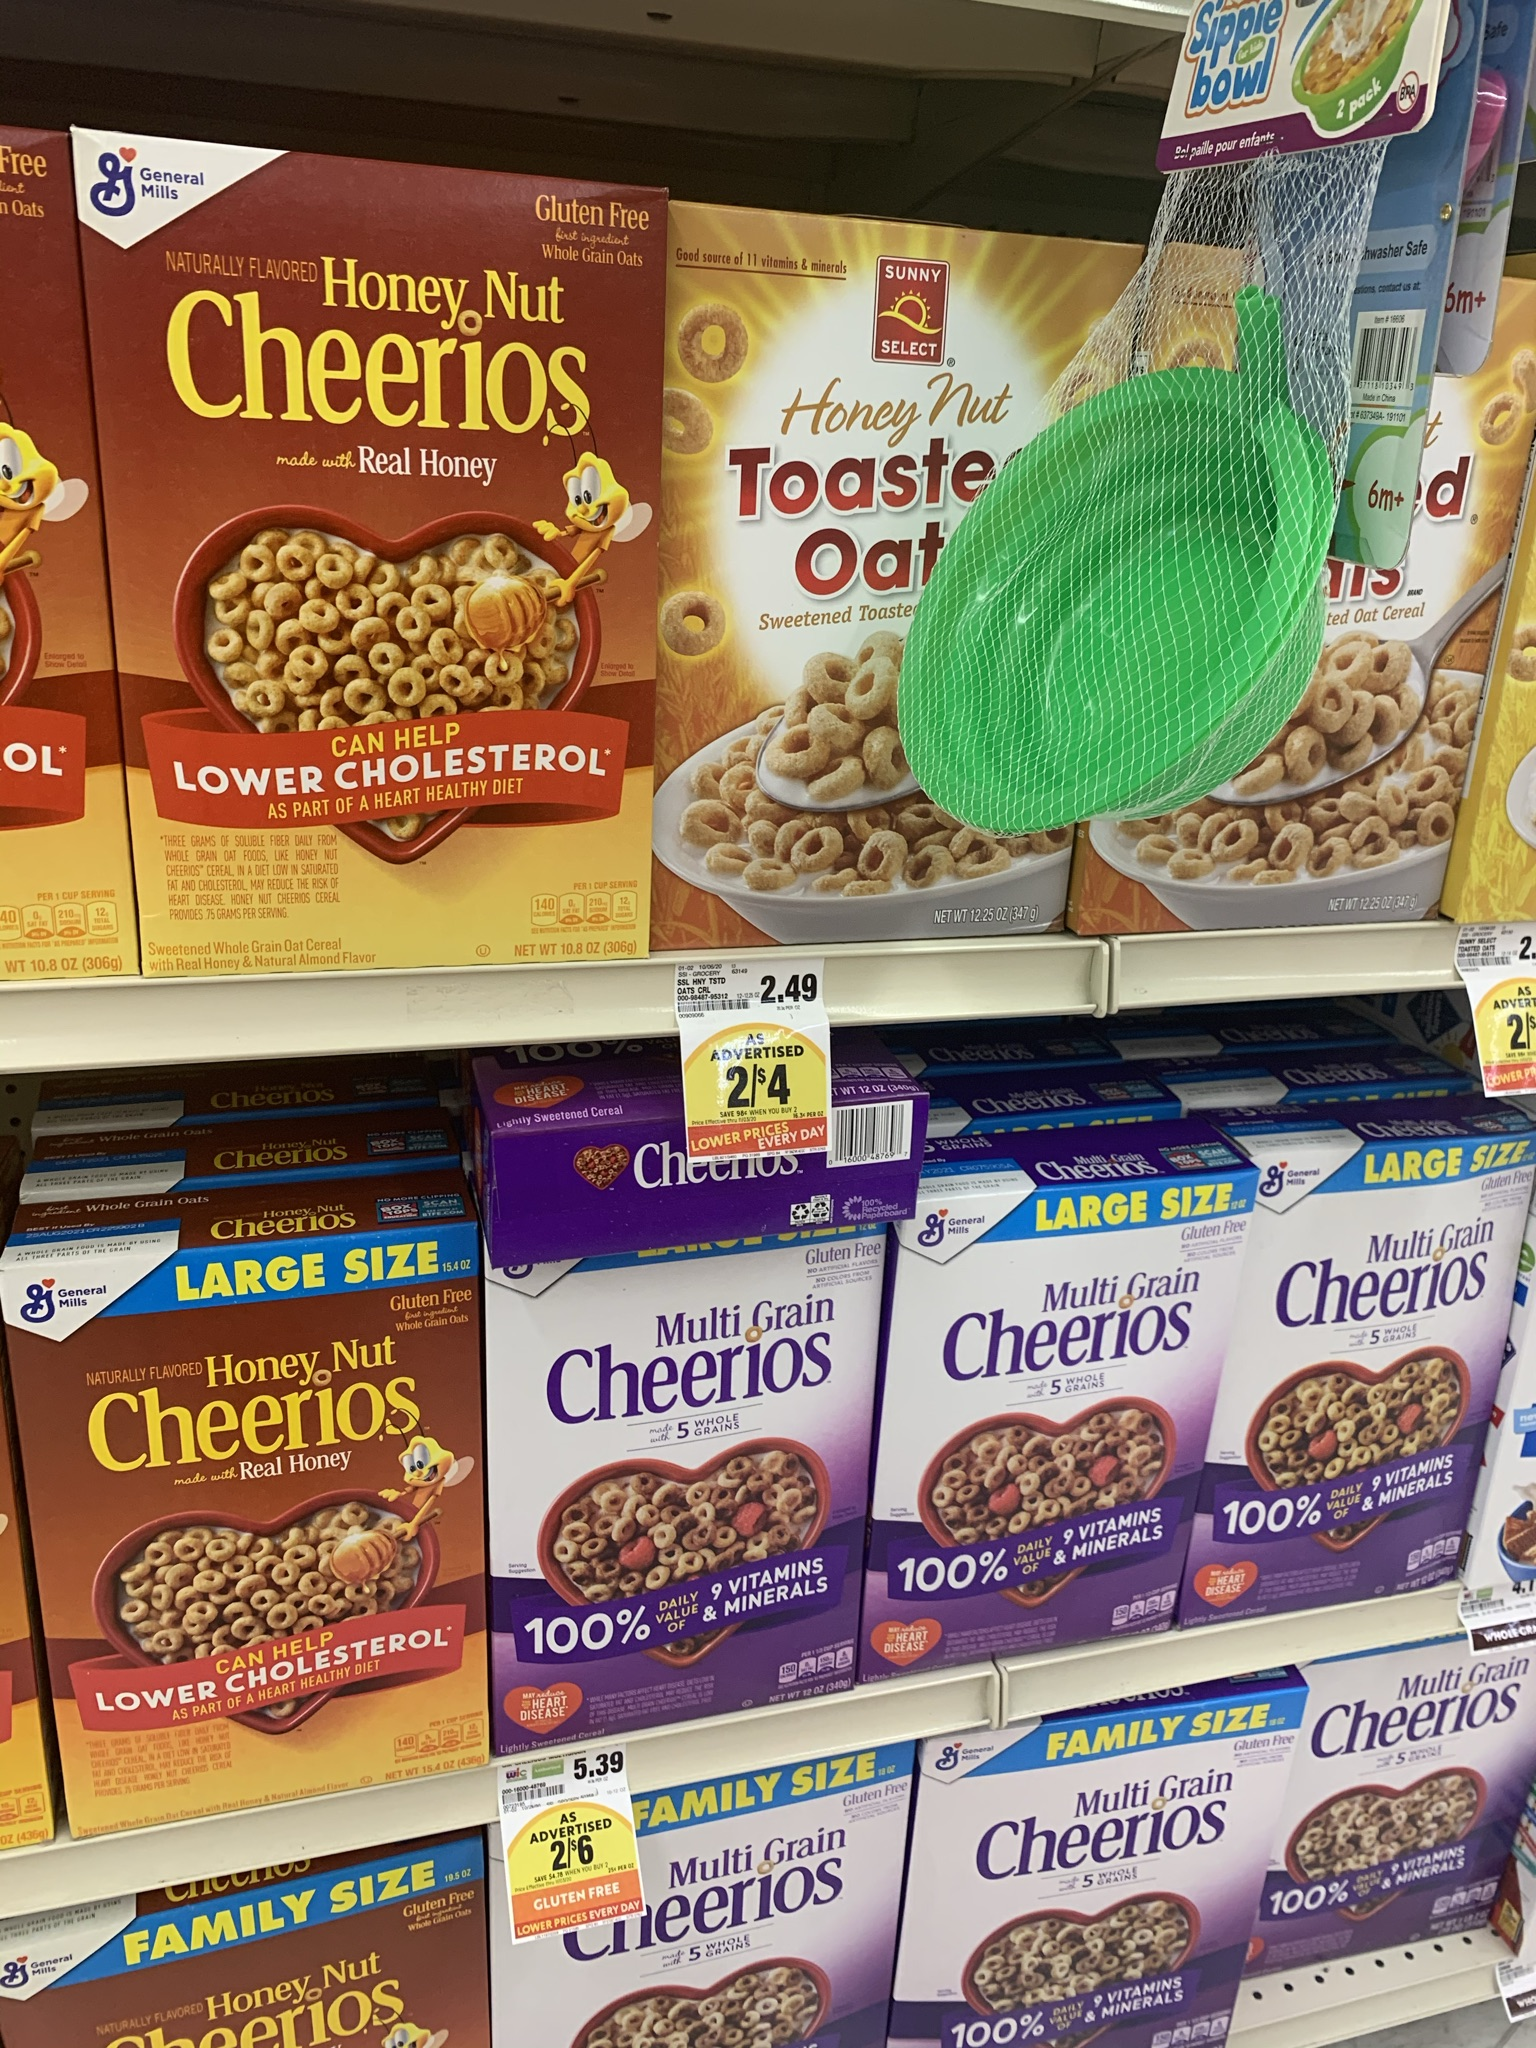box: (110, 144, 642, 955), (81, 1243, 463, 1775), (510, 1247, 858, 1684), (921, 1209, 1163, 1638), (1270, 1172, 1480, 1600), (941, 1755, 1231, 2042), (1309, 1688, 1512, 1922)
